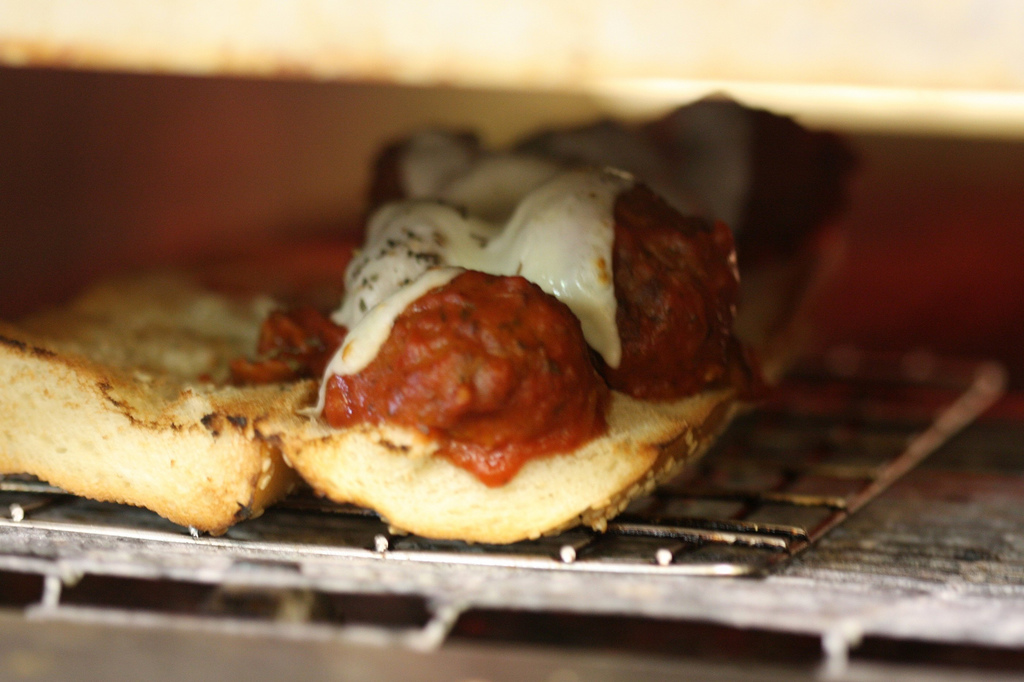slice of bread: (29, 354, 719, 543)
